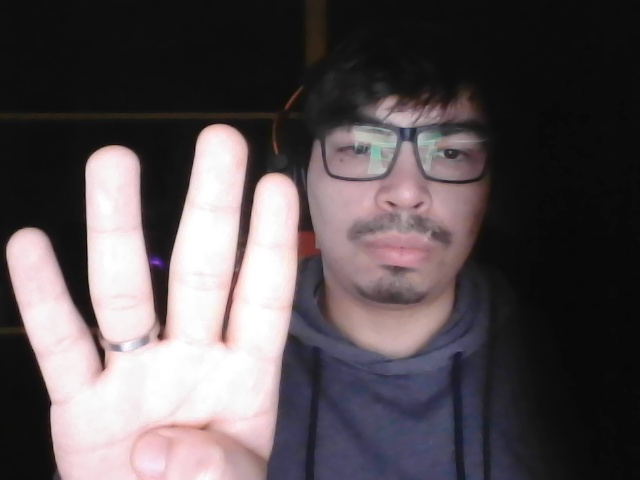four: (1, 115, 320, 480)
